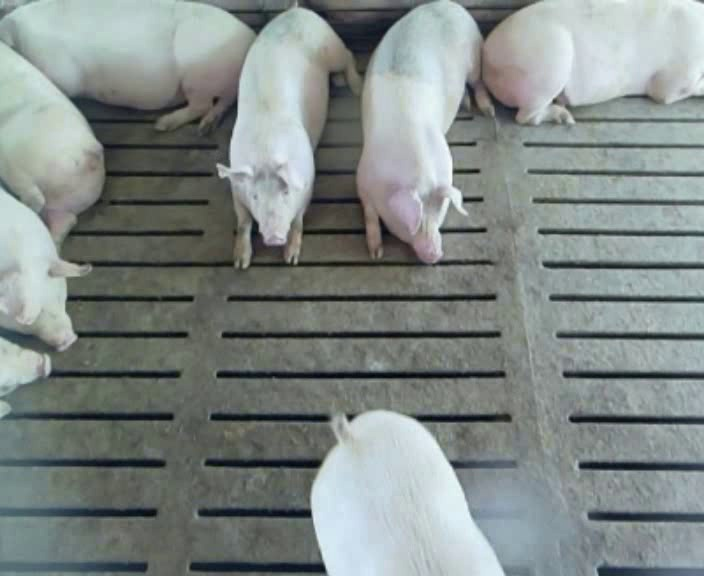pig: (217, 7, 360, 268), (357, 2, 493, 262), (311, 410, 503, 574), (483, 2, 703, 124)
